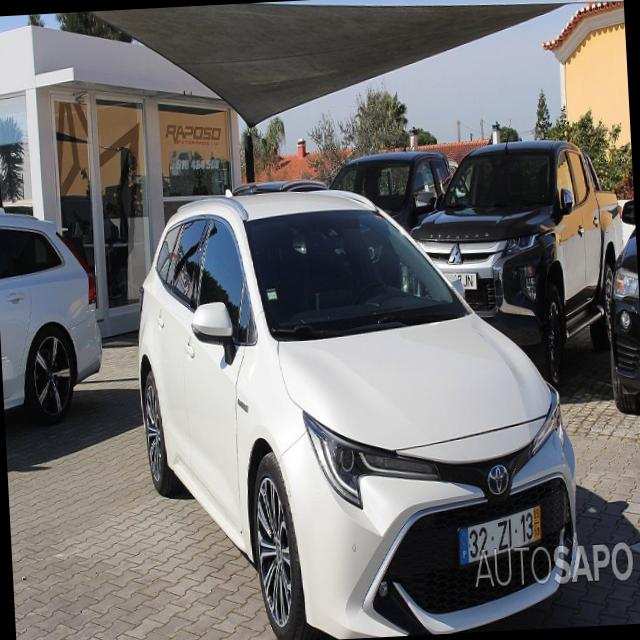portuguese-license-plates: (456, 500, 549, 574)
